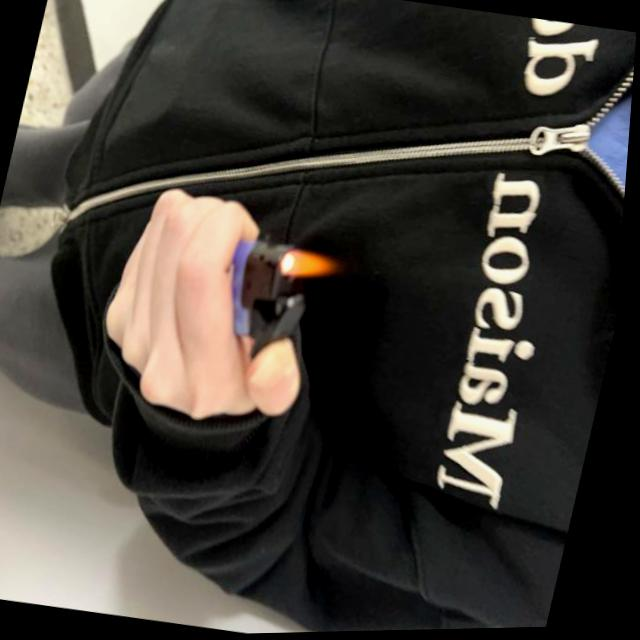helmet: (280, 248, 346, 283)
